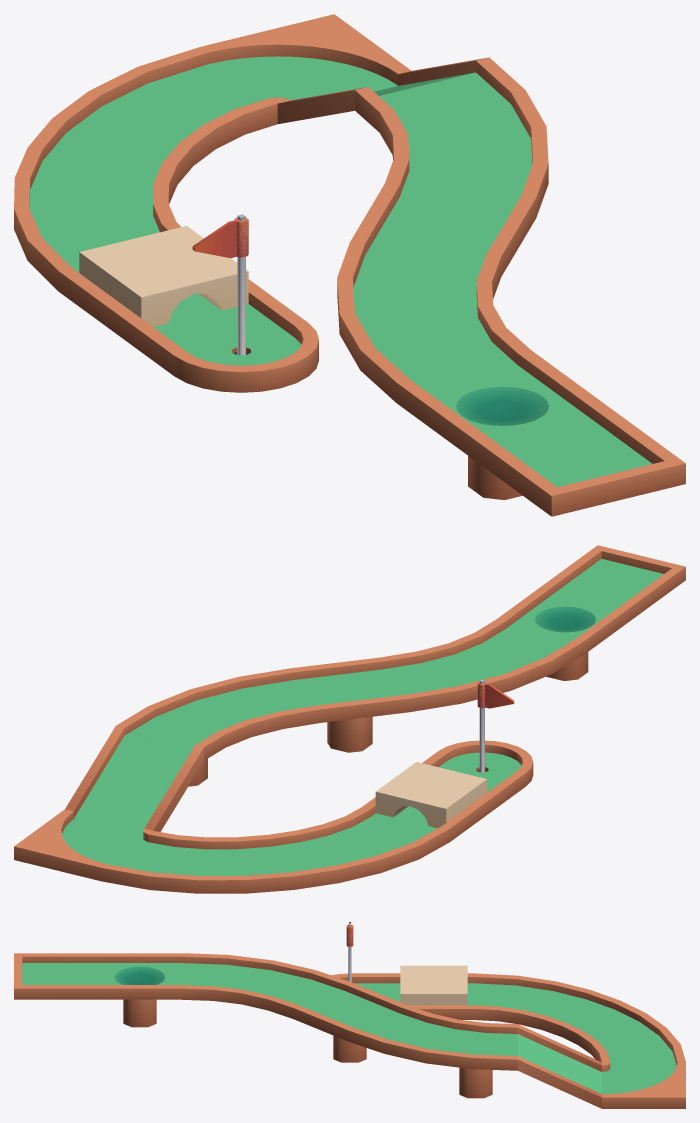
The model's file is hole2.glb.
The picture shows the model from 3 angles, top to bottom: view 1: azimuth 30°, elevation 25°; view 2: azimuth 150°, elevation 25°; view 3: azimuth 270°, elevation 25°; orthographic projection. The views are drawn at different scales.
Parts seen in each view (by area): view 1: support-low; view 2: support-low; view 3: support-low.
Boxes of the visible parts, x1,y1,x2,y2 form: support-low: [14, 14, 685, 516]; support-low: [14, 545, 685, 893]; support-low: [14, 922, 685, 1108].
Bounding box in the file's own units: 3.5 × 1.02 × 8.
Materials: 12 (12 with a texture image).
